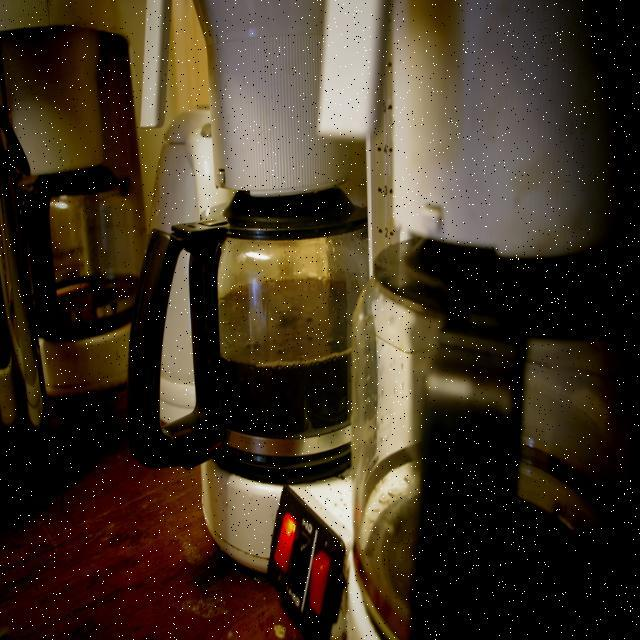Coffee-Machine: (315, 0, 640, 640), (128, 164, 362, 576), (4, 0, 156, 480)
